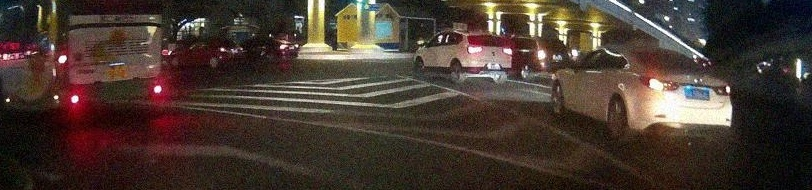L_light: (639, 76, 679, 91), (468, 46, 483, 55)
R_light: (713, 84, 731, 96), (502, 48, 512, 56)
T_light: (664, 53, 680, 55), (484, 35, 494, 37)
night-left: (631, 49, 733, 146)
night-no: (463, 33, 513, 84)
